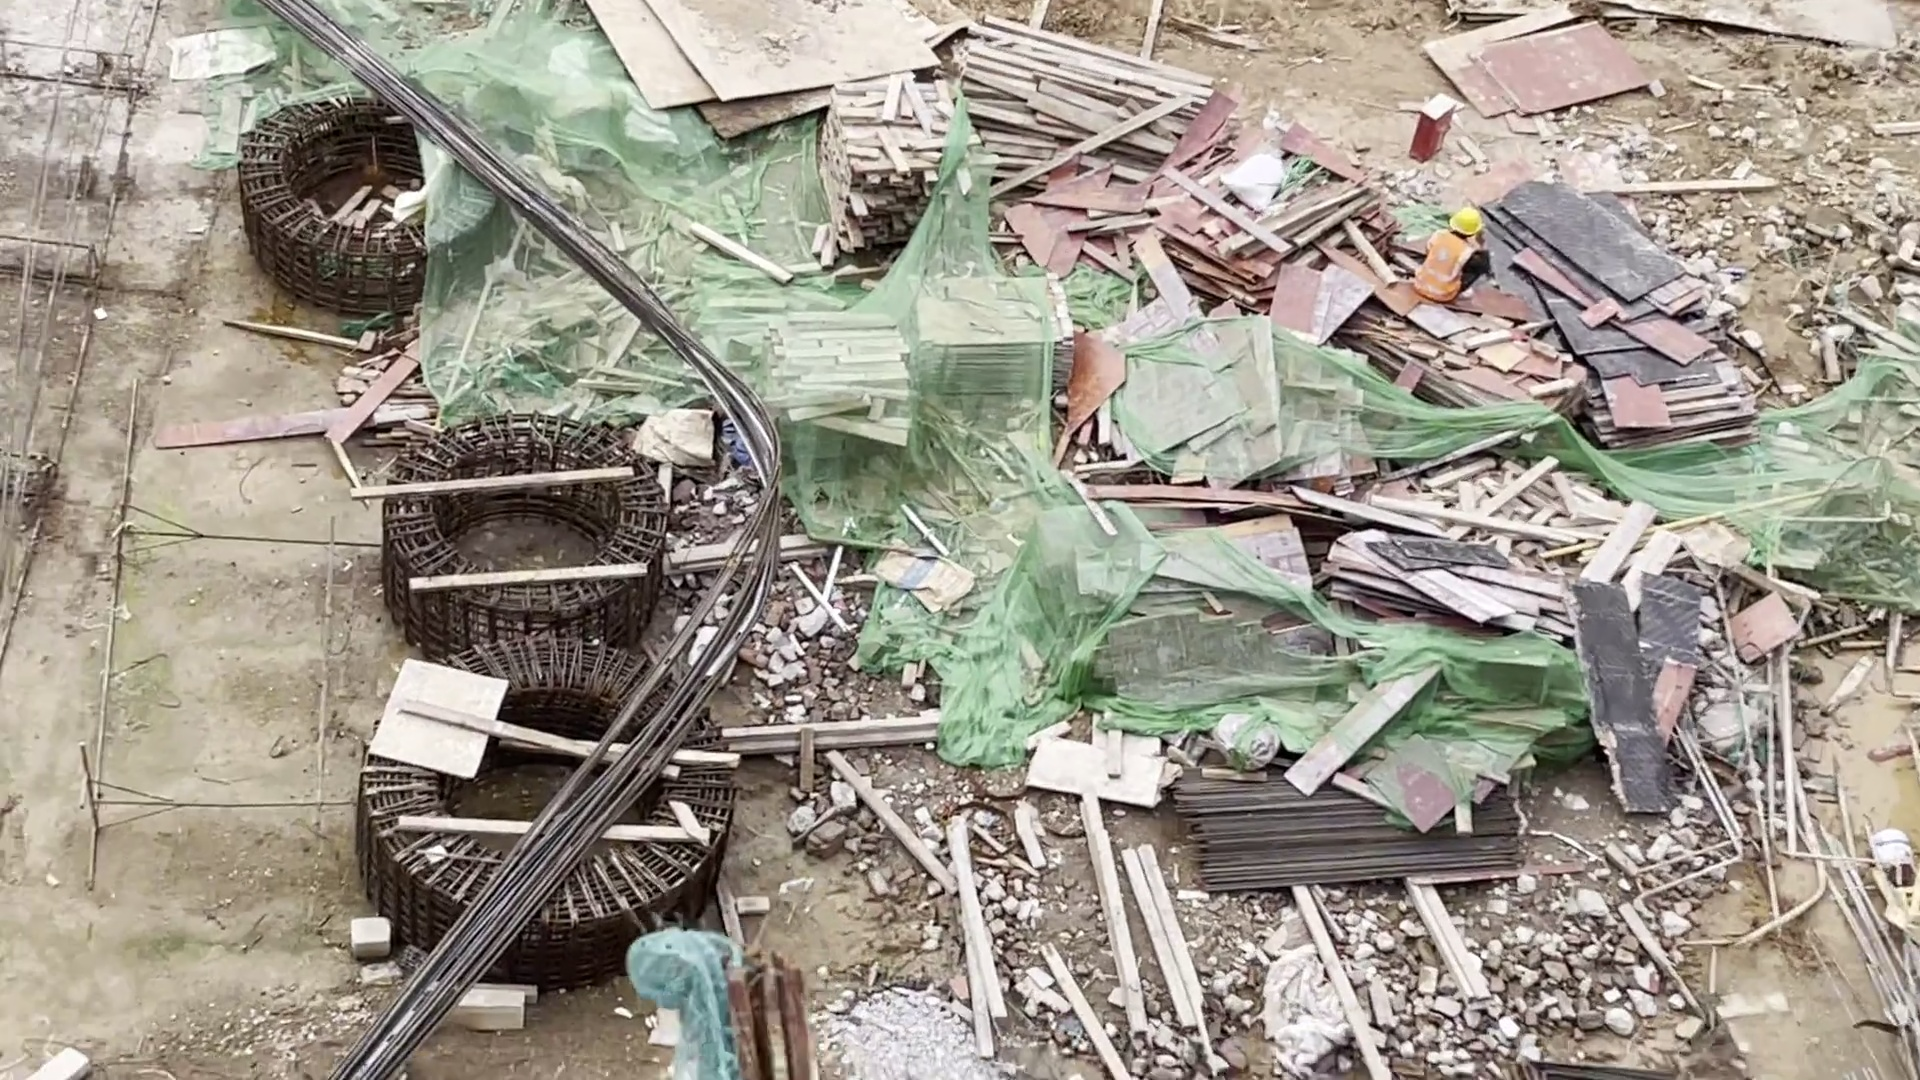helmet: (1451, 206, 1480, 234)
person: (1414, 197, 1500, 305)
vest: (1416, 228, 1471, 302)
